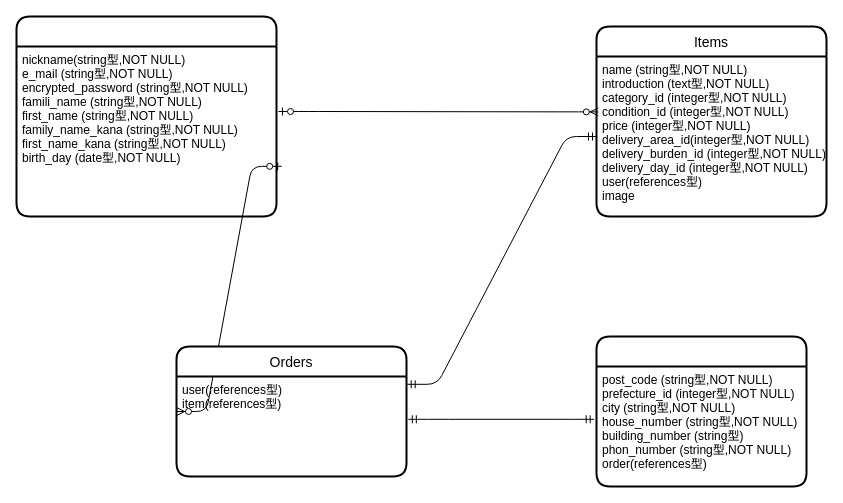
Image size: 843x503. Some labels were removed from this diagram. The shapes that lost their labels are listed below. From the top down, each one's box as (x1, y1, x2, y2) in pixels, then its label:
(15, 15, 277, 217): Users
(595, 335, 807, 487): Addreses
